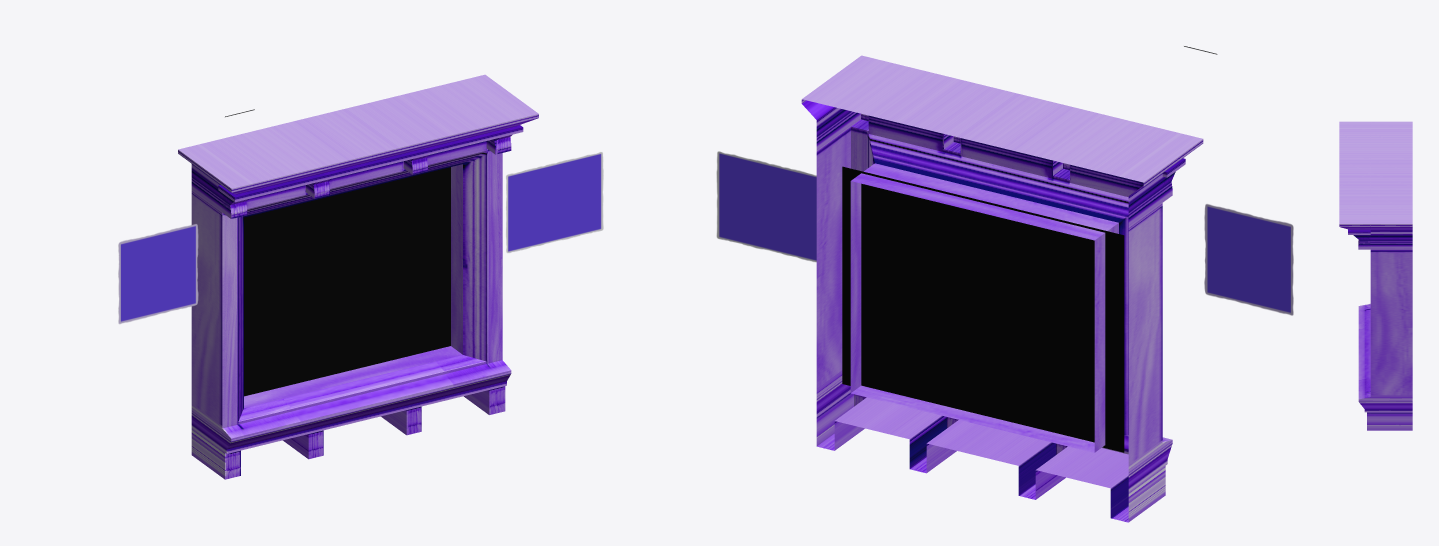
File: Catdance Model (1).glb
3 views of the same model, side by side, from view 1: azimuth 30°, elevation 25°; view 2: azimuth 150°, elevation 25°; view 3: azimuth 270°, elevation 25° (orthographic). The views are drawn at different scales.
Visible parts, largest first — view 1: Window, CatDancePanel, BoxRight, BoxLeft; view 2: Window, CatDancePanel, BoxRight, BoxLeft; view 3: Window.
Part boxes in pixels (x1,y1,x2,y2): Window: (178, 74, 538, 479); CatDancePanel: (244, 167, 450, 396); BoxRight: (506, 152, 603, 252); BoxLeft: (118, 224, 198, 323); Window: (801, 55, 1203, 522); CatDancePanel: (842, 166, 1124, 452); BoxRight: (716, 151, 816, 261); BoxLeft: (1204, 204, 1293, 315); Window: (1339, 121, 1412, 430).
Size of the model in its own units: 22.46 by 16.59 by 4.21.
Materials: 2 (2 with a texture image).
